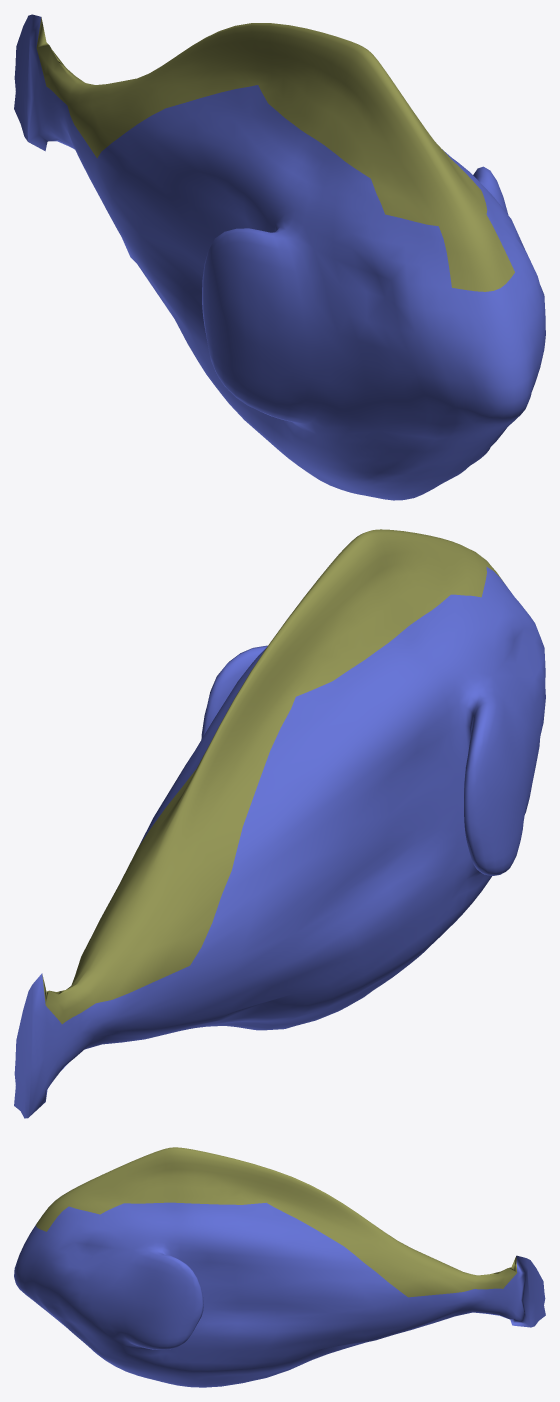
Rendered from fish.fbx.
3 views of the same model, one above another, from view 1: azimuth 30°, elevation 25°; view 2: azimuth 150°, elevation 25°; view 3: azimuth 270°, elevation 25° (orthographic). The views are drawn at different scales.
Parts seen in each view (by area): view 1: Cube; view 2: Cube; view 3: Cube.
Boxes of the visible parts, <box> form: Cube: <box>14,14,545,500</box>; Cube: <box>14,529,545,1118</box>; Cube: <box>14,1147,545,1387</box>.
Bounding box in the file's own units: 1.93 × 2.91 × 5.9.
